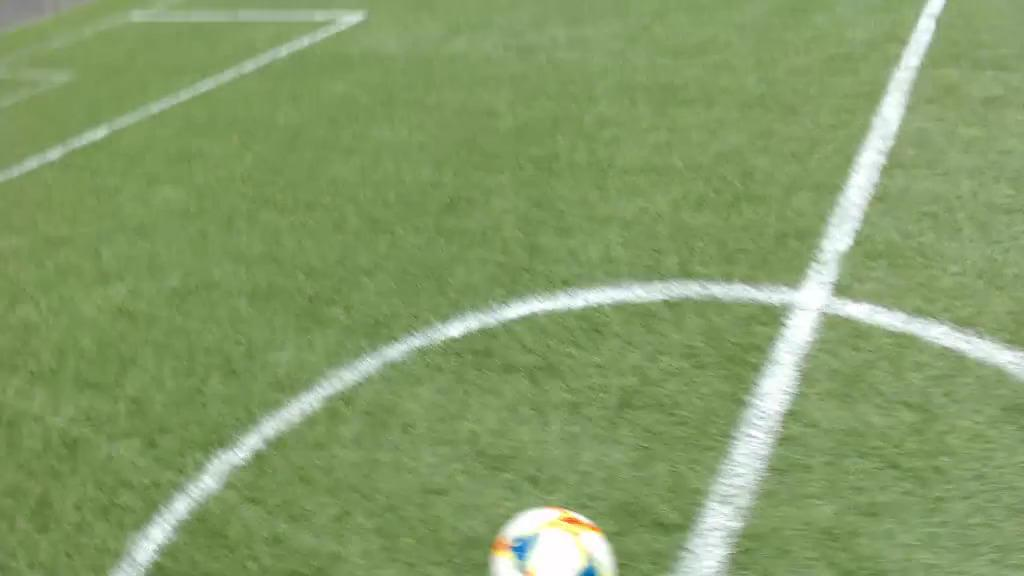ball: (494, 507, 615, 576)
